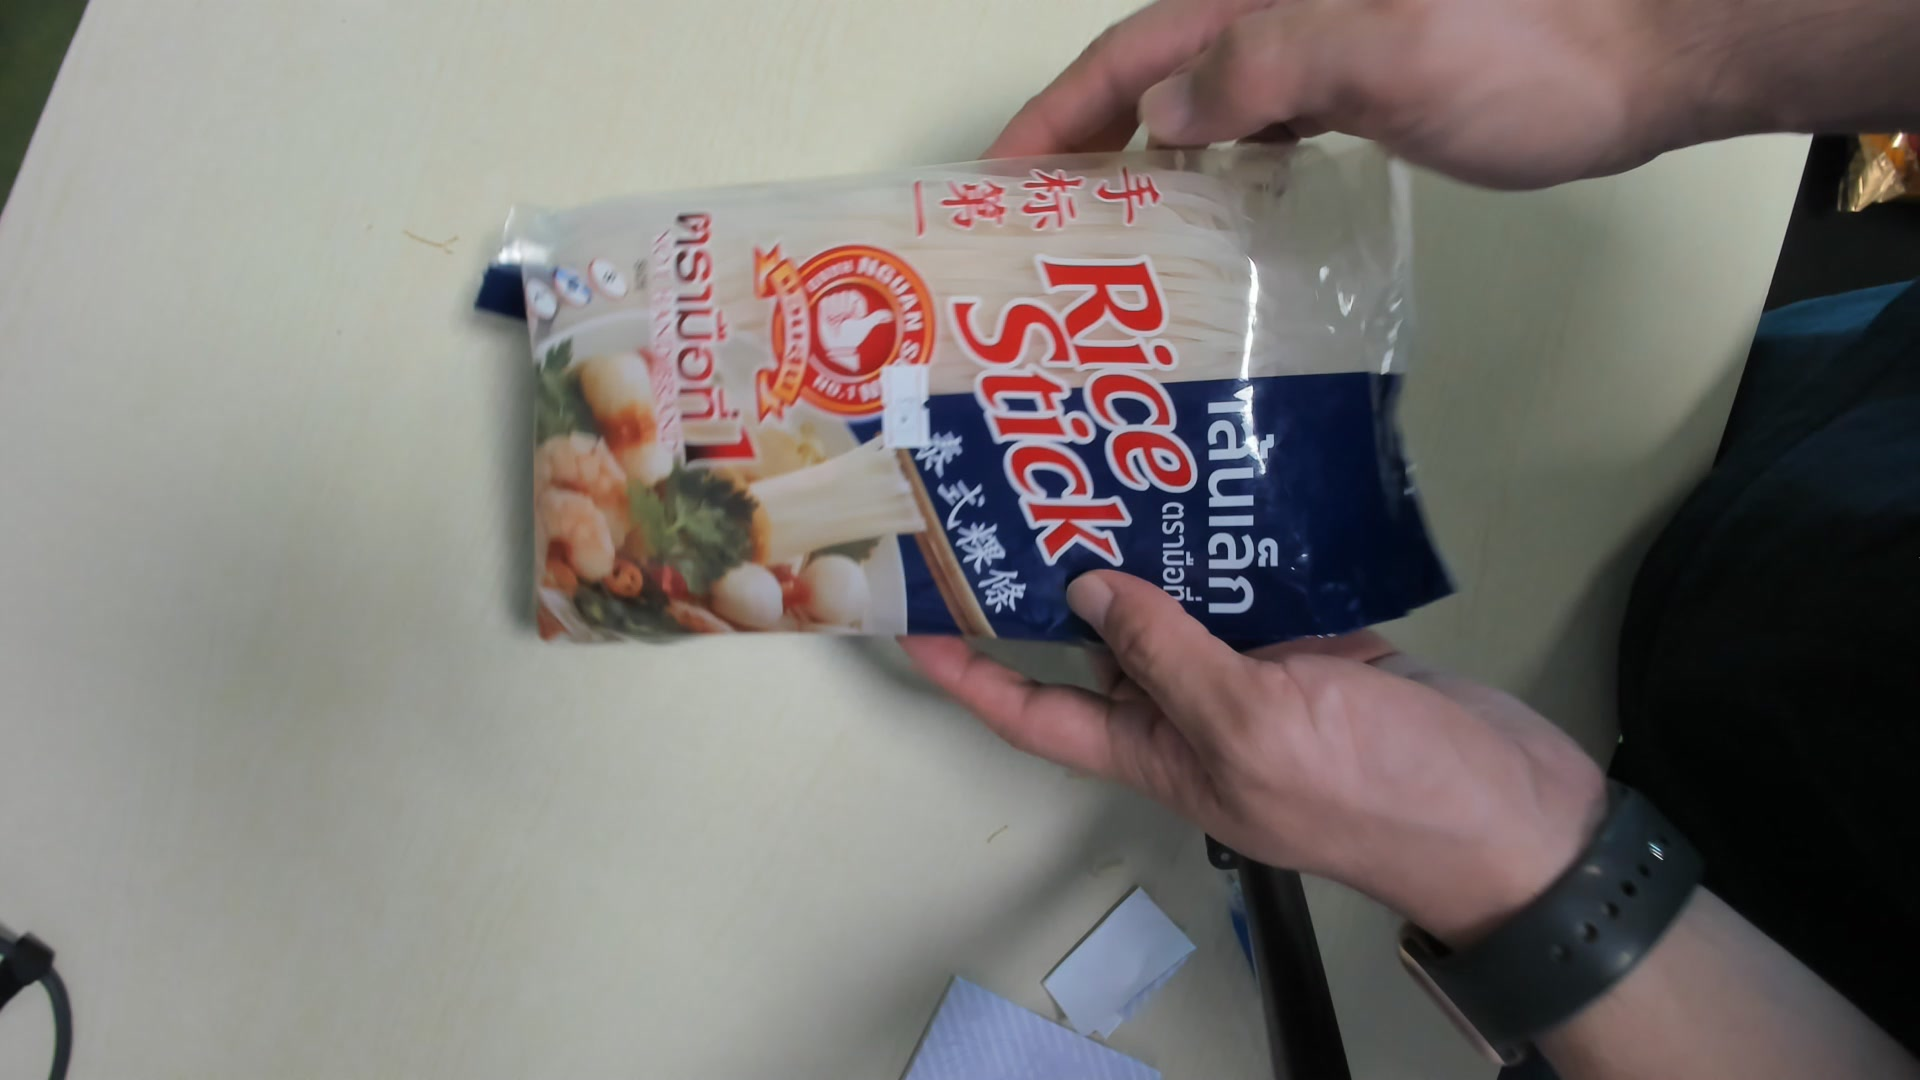OtherNoodles_400-499g_Halal_NonHealthy: (476, 138, 1437, 642)
